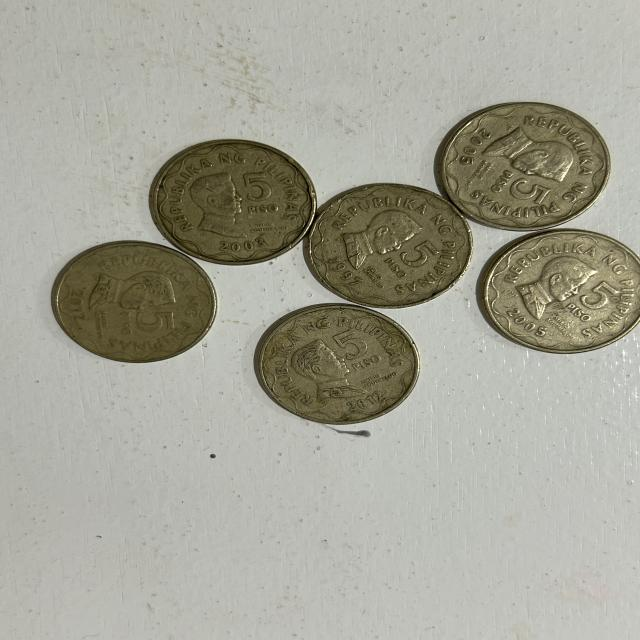5_Old_Front: (485, 162, 564, 216), (566, 276, 625, 340), (324, 329, 379, 386), (384, 237, 448, 284), (118, 303, 182, 347), (238, 170, 285, 227)
